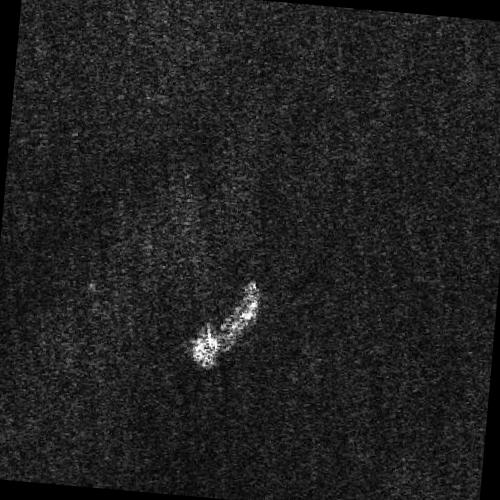ship: (192, 281, 261, 367)
